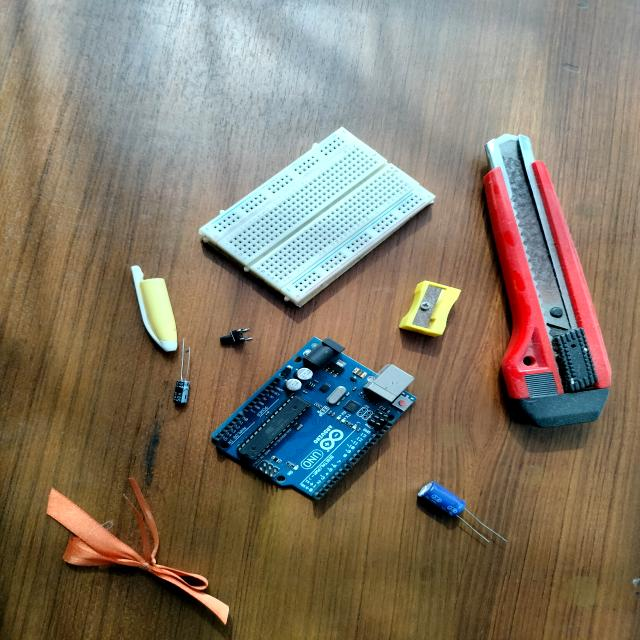Arduino-Uno: (201, 330, 427, 512)
Breadboard: (185, 117, 442, 314)
Capacitor-10mf: (170, 336, 197, 409)
Capacitor-470mf: (416, 473, 512, 553)
Tact-Switch: (208, 324, 258, 352)
